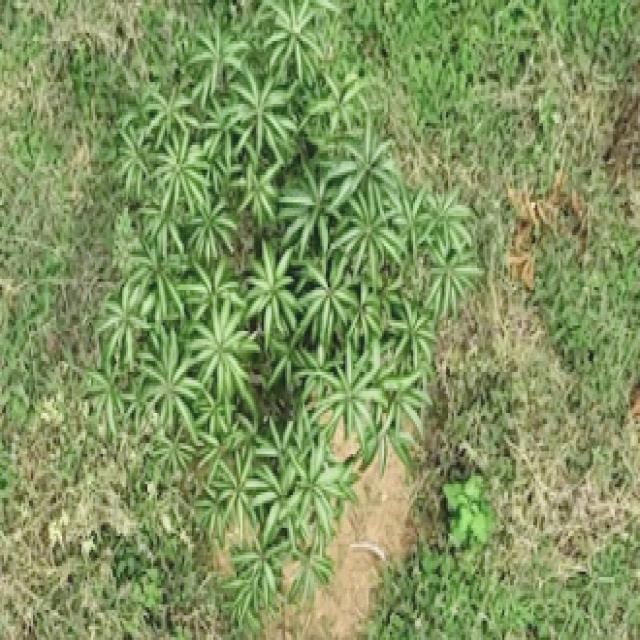mangoTree: (79, 0, 484, 637)
